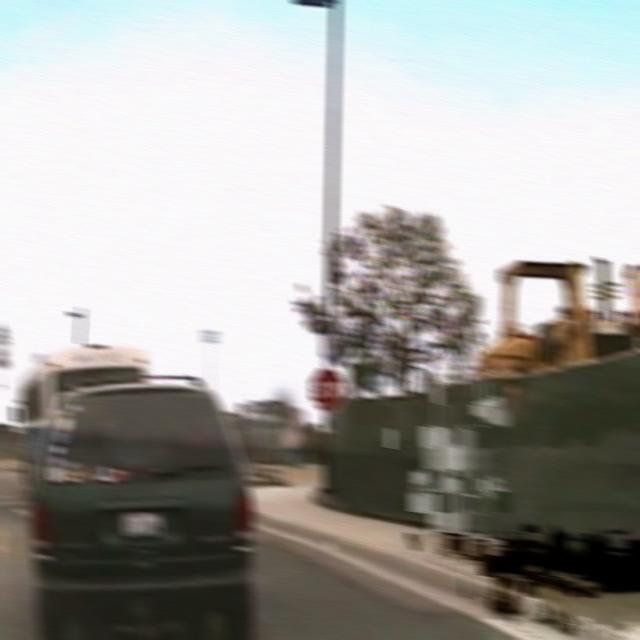stop_sign: (308, 367, 345, 412)
